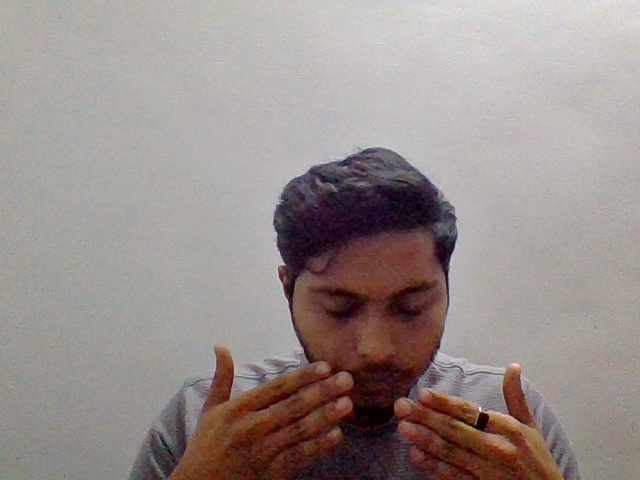Thanks: (172, 331, 568, 480)
